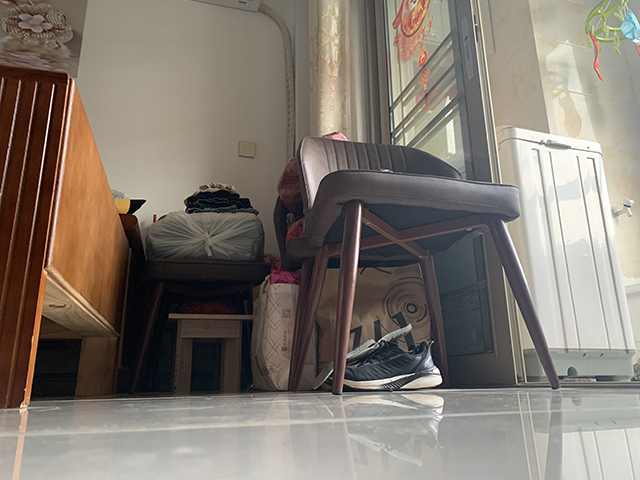stool: (285, 132, 562, 395), (127, 257, 271, 395), (167, 312, 254, 395)
